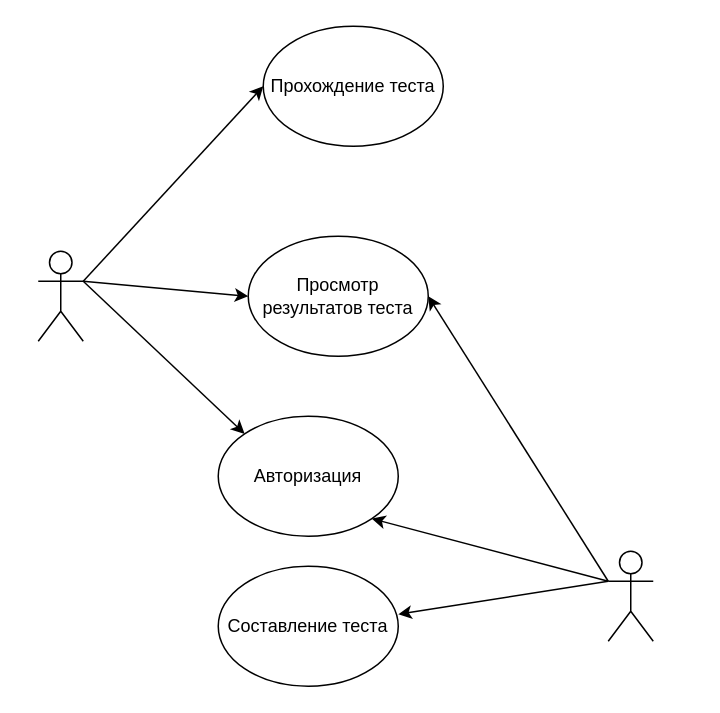
This 720x713 diagram has some shape labels left out. The box of each missing label's shape, as (x1, y1, x2, y2) in pixels:
Преподаватель: (607, 550, 653, 641)
Студент: (37, 250, 83, 341)
